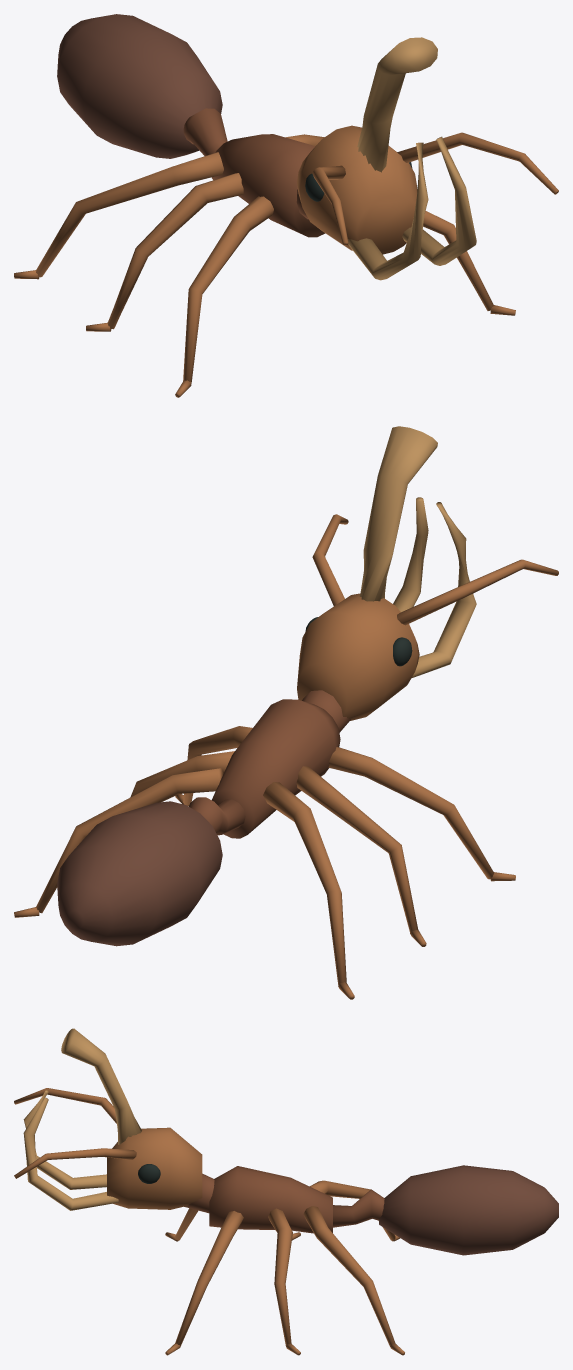
File: ceratomyrmex.glb
The picture shows the model from 3 angles, top to bottom: view 1: azimuth 30°, elevation 25°; view 2: azimuth 150°, elevation 25°; view 3: azimuth 270°, elevation 25°; orthographic projection. The views are drawn at different scales.
Visible parts, largest first — view 1: gaster, legs, head, mesosoma, mandibles, horn, antennae, petiole, tarsi; view 2: gaster, legs, head, mesosoma, horn, mandibles, antennae, petiole, tarsi, neck; view 3: gaster, legs, head, mesosoma, mandibles, horn, antennae, petiole, neck, tarsi.
Boxes of the visible parts, <box> form: gaster: <box>57,14,222,158</box>; legs: <box>36,134,493,383</box>; head: <box>297,125,417,254</box>; mesosoma: <box>211,134,325,237</box>; mandibles: <box>348,136,476,280</box>; horn: <box>357,37,437,172</box>; antennae: <box>312,132,558,245</box>; petiole: <box>183,108,227,155</box>; tarsi: <box>14,270,515,397</box>; gaster: <box>57,801,222,946</box>; legs: <box>36,726,493,984</box>; head: <box>297,593,419,720</box>; mesosoma: <box>212,699,340,838</box>; horn: <box>359,426,437,601</box>; mandibles: <box>393,497,476,678</box>; antennae: <box>312,514,558,625</box>; petiole: <box>189,797,245,835</box>; tarsi: <box>14,794,515,999</box>; neck: <box>302,690,350,732</box>; gaster: <box>379,1165,558,1255</box>; legs: <box>175,1180,395,1346</box>; head: <box>107,1127,202,1209</box>; mesosoma: <box>209,1166,332,1233</box>; mandibles: <box>23,1090,118,1210</box>; horn: <box>61,1028,141,1144</box>; antennae: <box>14,1088,136,1178</box>; petiole: <box>333,1189,384,1227</box>; neck: <box>184,1173,214,1213</box>; tarsi: <box>165,1232,404,1355</box>.
Size of the model in its own units: 0.00631 by 0.00646 by 0.0121.
